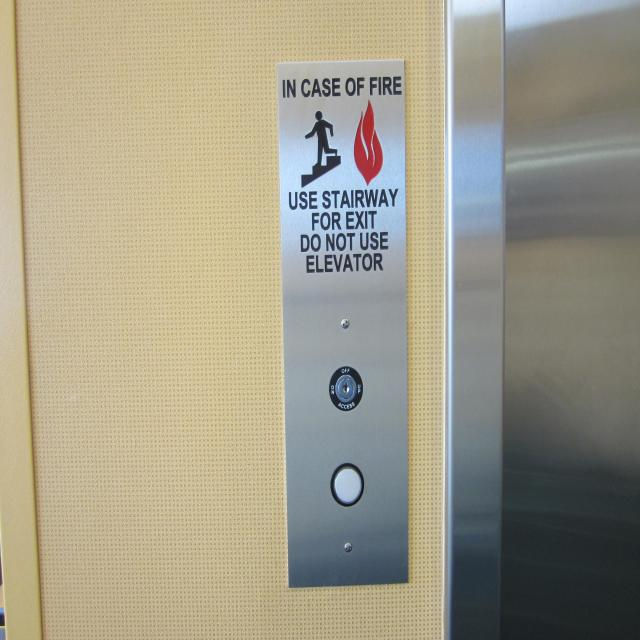empty: (328, 459, 367, 509)
keyhole: (326, 363, 366, 413)
